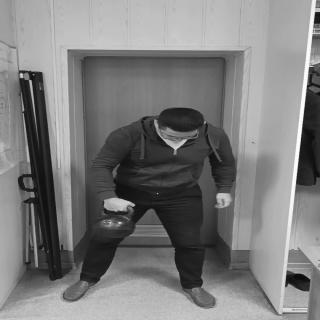kettlebell: (93, 207, 137, 239)
